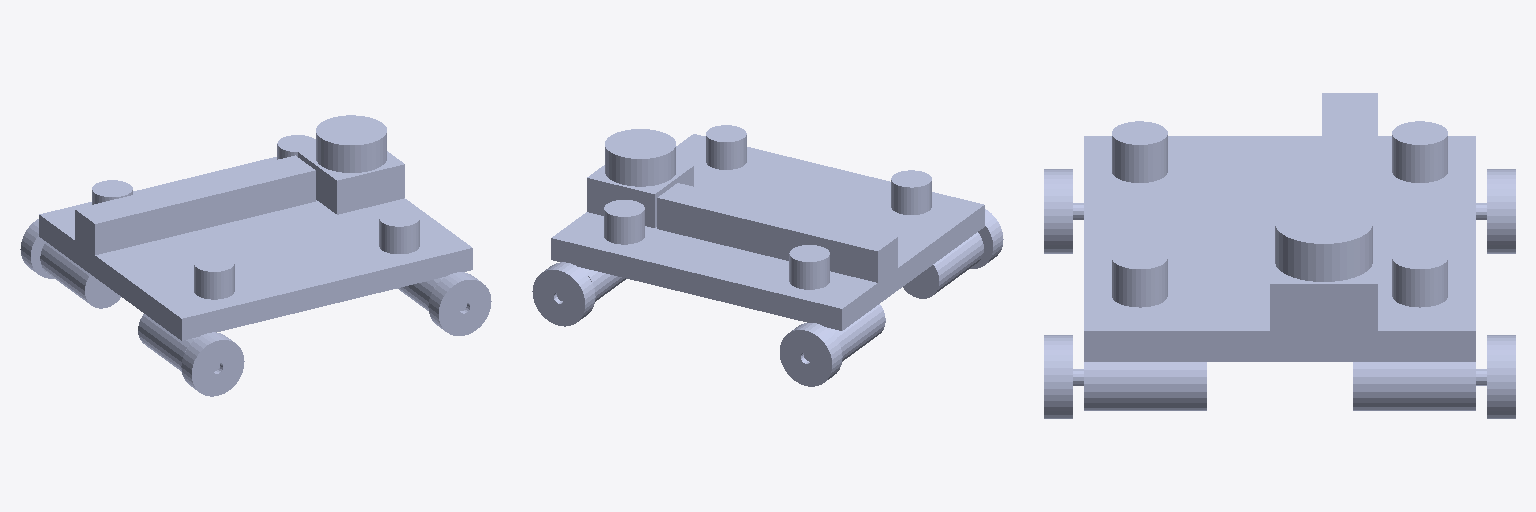
URDF robot description (autoVehicle):
<?xml version="1.0" encoding="utf-8"?>
<!-- This URDF was automatically created by SolidWorks to URDF Exporter! Originally created by Stephen Brawner (brawner@gmail.com) 
     Commit Version: 1.6.0-4-g7f85cfe  Build Version: 1.6.7995.38578
     For more information, please see http://wiki.ros.org/sw_urdf_exporter -->
<robot
  name="autoVehicle">
  <link
    name="base_link">
    <inertial>
      <origin
        xyz="0.00199572760235786 0.00334788402130737 0.00564578754463325"
        rpy="0 0 0" />
      <mass
        value="0.446602219201247" />
      <inertia
        ixx="0.000480015242688326"
        ixy="-2.71240785096608E-19"
        ixz="-2.71502976340294E-11"
        iyy="0.000699327543402837"
        iyz="-4.95623146846087E-19"
        izz="0.00116265232920818" />
    </inertial>
    
    <collision>
      <origin xyz="0 0 0.0318" rpy="0 0 0" />
      <geometry>
        <box size="0.165 0.14 0.0575" />
      </geometry>
    </collision>
<visual>
      <origin
        xyz="0 0 0"
        rpy="0 0 0" />
      <geometry>
        <mesh
          filename="package://autoVehicle/meshes/base_link.STL" />
      </geometry>
      <material
        name="">
        <color
          rgba="0.792156862745098 0.819607843137255 0.933333333333333 1" />
      </material>
    </visual>
    
  </link>
  <link
    name="left_front_wheel">
    <inertial>
      <origin
        xyz="1.237E-14 0.005 2.6664E-14"
        rpy="0 0 0" />
      <mass
        value="0.0067858" />
      <inertia
        ixx="4.5352E-07"
        ixy="1.1882E-39"
        ixz="-5.8315E-40"
        iyy="7.9394E-07"
        iyz="-1.0941E-39"
        izz="4.5352E-07" />
    </inertial>
    <visual>
      <origin
        xyz="0 0 0"
        rpy="0 0 0" />
      <geometry>
        <mesh
          filename="package://autoVehicle/meshes/left_front_wheel.STL" />
      </geometry>
      <material
        name="">
        <color
          rgba="0.79216 0.81961 0.93333 1" />
      </material>
    </visual>
    <collision>
      <origin
        xyz="0 0 0"
        rpy="0 0 0" />
      <geometry>
        <sphere radius="0.02" />
      </geometry>
      <surface>
        <friction>
          <ode><mu>100.0</mu><mu2>100.0</mu2></ode>
          <dart>
            <primary_friction>100.0</primary_friction>
            <secondary_friction>100.0</secondary_friction>
          </dart>
        </friction>
      </surface>
    </collision>
  </link>
  <joint
    name="left_front_joint"
    type="continuous">
    <origin
      xyz="0.07 0.074 -0.012"
      rpy="0 0 0" />
    <parent
      link="base_link" />
    <child
      link="left_front_wheel" />
    <axis
      xyz="0 1 0" />
  </joint>
  <link
    name="left_rear_wheel">
    <inertial>
      <origin
        xyz="1.0436E-14 0.005 1.5712E-13"
        rpy="0 0 0" />
      <mass
        value="0.0067858" />
      <inertia
        ixx="4.5352E-07"
        ixy="1.1882E-39"
        ixz="9.7184E-42"
        iyy="7.9394E-07"
        iyz="-1.0655E-39"
        izz="4.5352E-07" />
    </inertial>
    <visual>
      <origin
        xyz="0 0 0"
        rpy="0 0 0" />
      <geometry>
        <mesh
          filename="package://autoVehicle/meshes/left_rear_wheel.STL" />
      </geometry>
      <material
        name="">
        <color
          rgba="0.79216 0.81961 0.93333 1" />
      </material>
    </visual>
    <collision>
      <origin
        xyz="0 0 0"
        rpy="0 0 0" />
      <geometry>
        <sphere radius="0.02" />
      </geometry>
      <surface>
        <friction>
          <ode><mu>100.0</mu><mu2>100.0</mu2></ode>
          <dart>
            <primary_friction>100.0</primary_friction>
            <secondary_friction>100.0</secondary_friction>
          </dart>
        </friction>
      </surface>
    </collision>
  </link>
  <joint
    name="left_rear_joint"
    type="continuous">
    <origin
      xyz="-0.07 0.074 -0.012"
      rpy="0 0 0" />
    <parent
      link="base_link" />
    <child
      link="left_rear_wheel" />
    <axis
      xyz="0 1 0" />
  </joint>
  <link
    name="right_rear_wheel">
    <inertial>
      <origin
        xyz="6.9389E-16 -0.005 3.0496E-15"
        rpy="0 0 0" />
      <mass
        value="0.0067858" />
      <inertia
        ixx="4.5352E-07"
        ixy="-3.5062E-21"
        ixz="-6.0995E-37"
        iyy="7.9394E-07"
        iyz="5.9054E-23"
        izz="4.5352E-07" />
    </inertial>
    <visual>
      <origin
        xyz="0 0 0"
        rpy="0 0 0" />
      <geometry>
        <mesh
          filename="package://autoVehicle/meshes/right_rear_wheel.STL" />
      </geometry>
      <material
        name="">
        <color
          rgba="0.79216 0.81961 0.93333 1" />
      </material>
    </visual>
    <collision>
      <origin
        xyz="0 0 0"
        rpy="0 0 0" />
      <geometry>
        <sphere radius="0.02" />
      </geometry>
      <surface>
        <friction>
          <ode><mu>100.0</mu><mu2>100.0</mu2></ode>
          <dart>
            <primary_friction>100.0</primary_friction>
            <secondary_friction>100.0</secondary_friction>
          </dart>
        </friction>
      </surface>
    </collision>
  </link>
  <joint
    name="right_rear_joint"
    type="continuous">
    <origin
      xyz="-0.07 -0.074 -0.012"
      rpy="0 0 0" />
    <parent
      link="base_link" />
    <child
      link="right_rear_wheel" />
    <axis
      xyz="0 1 0" />
  </joint>
  <link
    name="right_front_wheel">
    <inertial>
      <origin
        xyz="2.5951E-15 -0.005 5.4999E-15"
        rpy="0 0 0" />
      <mass
        value="0.0067858" />
      <inertia
        ixx="4.5352E-07"
        ixy="-3.554E-21"
        ixz="-5.995E-37"
        iyy="7.9394E-07"
        iyz="5.9054E-23"
        izz="4.5352E-07" />
    </inertial>
    <visual>
      <origin
        xyz="0 0 0"
        rpy="0 0 0" />
      <geometry>
        <mesh
          filename="package://autoVehicle/meshes/right_front_wheel.STL" />
      </geometry>
      <material
        name="">
        <color
          rgba="0.79216 0.81961 0.93333 1" />
      </material>
    </visual>
    <collision>
      <origin
        xyz="0 0 0"
        rpy="0 0 0" />
      <geometry>
        <sphere radius="0.02" />
      </geometry>
      <surface>
        <friction>
          <ode><mu>100.0</mu><mu2>100.0</mu2></ode>
          <dart>
            <primary_friction>100.0</primary_friction>
            <secondary_friction>100.0</secondary_friction>
          </dart>
        </friction>
      </surface>
    </collision>
  </link>
  <joint
    name="right_front_joint"
    type="continuous">
    <origin
      xyz="0.07 -0.074 -0.012"
      rpy="0 0 0" />
    <parent
      link="base_link" />
    <child
      link="right_front_wheel" />
    <axis
      xyz="0 1 0" />
  </joint>
  <link
    name="radar_link">
    <inertial>
      <origin
        xyz="-2.983E-10 1.3878E-17 0.0075"
        rpy="0 0 0" />
      <mass
        value="0.014432" />
      <inertia
        ixx="1.3755E-06"
        ixy="3.7077E-29"
        ixz="-3.3184E-14"
        iyy="1.3755E-06"
        iyz="-9.3222E-22"
        izz="2.2099E-06" />
    </inertial>
    <visual>
      <origin
        xyz="0 0 0"
        rpy="0 0 0" />
      <geometry>
        <mesh
          filename="package://autoVehicle/meshes/radar_link.STL" />
      </geometry>
      <material
        name="">
        <color
          rgba="0.79216 0.81961 0.93333 1" />
      </material>
    </visual>
    <collision>
      <origin
        xyz="0 0 0"
        rpy="0 0 0" />
      <geometry>
        <mesh
          filename="package://autoVehicle/meshes/radar_link.STL" />
      </geometry>
    </collision>
  </link>
  <joint
    name="radar_joint"
    type="fixed">
    <origin
      xyz="0.063205 0.015705 0.0305"
      rpy="0 0 0" />
    <parent
      link="base_link" />
    <child
      link="radar_link" />
    <axis
      xyz="0 0 1" />
  </joint>


  <gazebo reference="base_link">
    <material>Gazebo/LightGray</material>
  </gazebo>

  <gazebo reference="left_front_wheel">
    <material>Gazebo/Blue</material>
    <mu1>100.0</mu1>
    <mu2>50.0</mu2>
  </gazebo>

  <gazebo reference="left_rear_wheel">
    <material>Gazebo/Blue</material>
    <mu1>100.0</mu1>
    <mu2>50.0</mu2>
  </gazebo>

  <gazebo reference="right_front_wheel">
    <material>Gazebo/Blue</material>
    <mu1>100.0</mu1>
    <mu2>50.0</mu2>
  </gazebo>

  <gazebo reference="right_rear_wheel">
    <material>Gazebo/Blue</material>
    <mu1>100.0</mu1>
    <mu2>50.0</mu2>
  </gazebo>




  <gazebo>
    <plugin filename="gz-sim-joint-controller-system" name="gz::sim::systems::JointController">
      <joint_name>left_front_joint</joint_name>
      <use_velocity_commands>true</use_velocity_commands>
    </plugin>
  </gazebo>
  <gazebo>
    <plugin filename="gz-sim-joint-controller-system" name="gz::sim::systems::JointController">
      <joint_name>left_rear_joint</joint_name>
      <use_velocity_commands>true</use_velocity_commands>
    </plugin>
  </gazebo>
  <gazebo>
    <plugin filename="gz-sim-joint-controller-system" name="gz::sim::systems::JointController">
      <joint_name>right_front_joint</joint_name>
      <use_velocity_commands>true</use_velocity_commands>
    </plugin>
  </gazebo>
  <gazebo>
    <plugin filename="gz-sim-joint-controller-system" name="gz::sim::systems::JointController">
      <joint_name>right_rear_joint</joint_name>
      <use_velocity_commands>true</use_velocity_commands>
    </plugin>
  </gazebo>
  <!-- OdometryPublisher: publishes ground-truth odometry from Gazebo -->
  <gazebo>
    <plugin filename="gz-sim-odometry-publisher-system" name="gz::sim::systems::OdometryPublisher">
      <odom_frame>odom</odom_frame>
      <robot_base_frame>base_footprint</robot_base_frame>
      <odom_topic>/model/autoVehicle/odometry</odom_topic>
      <dimensions>3</dimensions>
    </plugin>
  </gazebo>

  <!-- 2D Laser scanner (CPU lidar) for point cloud mapping -->
  <!-- 2D scans are accumulated into 3D map via robot odometry -->
  <gazebo reference="radar_link">
    <sensor name="lidar" type="lidar">
      <pose>0 0 0 0 0 0</pose>
      <topic>lidar</topic>
      <update_rate>10</update_rate>
      <ray>
        <scan>
          <horizontal>
            <samples>360</samples>
            <resolution>1</resolution>
            <min_angle>-3.14159</min_angle>
            <max_angle>3.14159</max_angle>
          </horizontal>
        </scan>
        <range>
          <min>0.05</min>
          <max>30.0</max>
          <resolution>0.01</resolution>
        </range>
      </ray>
      <always_on>1</always_on>
      <visualize>true</visualize>
    </sensor>
  </gazebo>

  <!-- IMU sensor (for robot_localization / FAST-LIO2) -->
  <gazebo reference="base_link">
    <sensor name="imu" type="imu">
      <pose>0 0 0 0 0 0</pose>
      <topic>imu</topic>
      <update_rate>200</update_rate>
      <always_on>1</always_on>
      <imu>
        <angular_velocity>
          <x><noise type="gaussian" mean="0" stddev="0.001"/></x>
          <y><noise type="gaussian" mean="0" stddev="0.001"/></y>
          <z><noise type="gaussian" mean="0" stddev="0.001"/></z>
        </angular_velocity>
        <linear_acceleration>
          <x><noise type="gaussian" mean="0" stddev="0.01"/></x>
          <y><noise type="gaussian" mean="0" stddev="0.01"/></y>
          <z><noise type="gaussian" mean="0" stddev="0.01"/></z>
        </linear_acceleration>
      </imu>
    </sensor>
  </gazebo>

</robot>

--- Facts derived from the render (not from the file) ---
3 views of the same robot in one strip: view 1: azimuth 30°, elevation 25°; view 2: azimuth 150°, elevation 25°; view 3: azimuth 270°, elevation 25° (orthographic).
Robot: autoVehicle — 6 links, 5 joints (4 continuous, 1 fixed); root link base_link; default pose: all joints at 0.
Links seen in each view (by area): view 1: base_link, radar_link, right_rear_wheel, right_front_wheel, left_rear_wheel; view 2: base_link, radar_link, left_rear_wheel, left_front_wheel, right_rear_wheel; view 3: base_link, radar_link, left_rear_wheel, right_rear_wheel, left_front_wheel, right_front_wheel.
Boxes of the visible links, <box> form: base_link: <box>39,135,472,371</box>; radar_link: <box>316,115,386,172</box>; right_rear_wheel: <box>181,332,244,396</box>; right_front_wheel: <box>428,272,491,335</box>; left_rear_wheel: <box>20,219,53,278</box>; base_link: <box>551,125,984,361</box>; radar_link: <box>605,129,675,186</box>; left_rear_wheel: <box>780,323,842,386</box>; left_front_wheel: <box>532,262,595,326</box>; right_rear_wheel: <box>970,209,1003,268</box>; base_link: <box>1073,93,1486,410</box>; radar_link: <box>1275,203,1372,281</box>; left_rear_wheel: <box>1487,169,1515,253</box>; right_rear_wheel: <box>1044,169,1072,253</box>; left_front_wheel: <box>1487,335,1515,418</box>; right_front_wheel: <box>1044,335,1072,418</box>.
Size in the robot's own frame: 0.17 by 0.168 by 0.0724 metres.
Meshes: 6 distinct files referenced, 6 mesh visuals loaded (6 binary STL).
